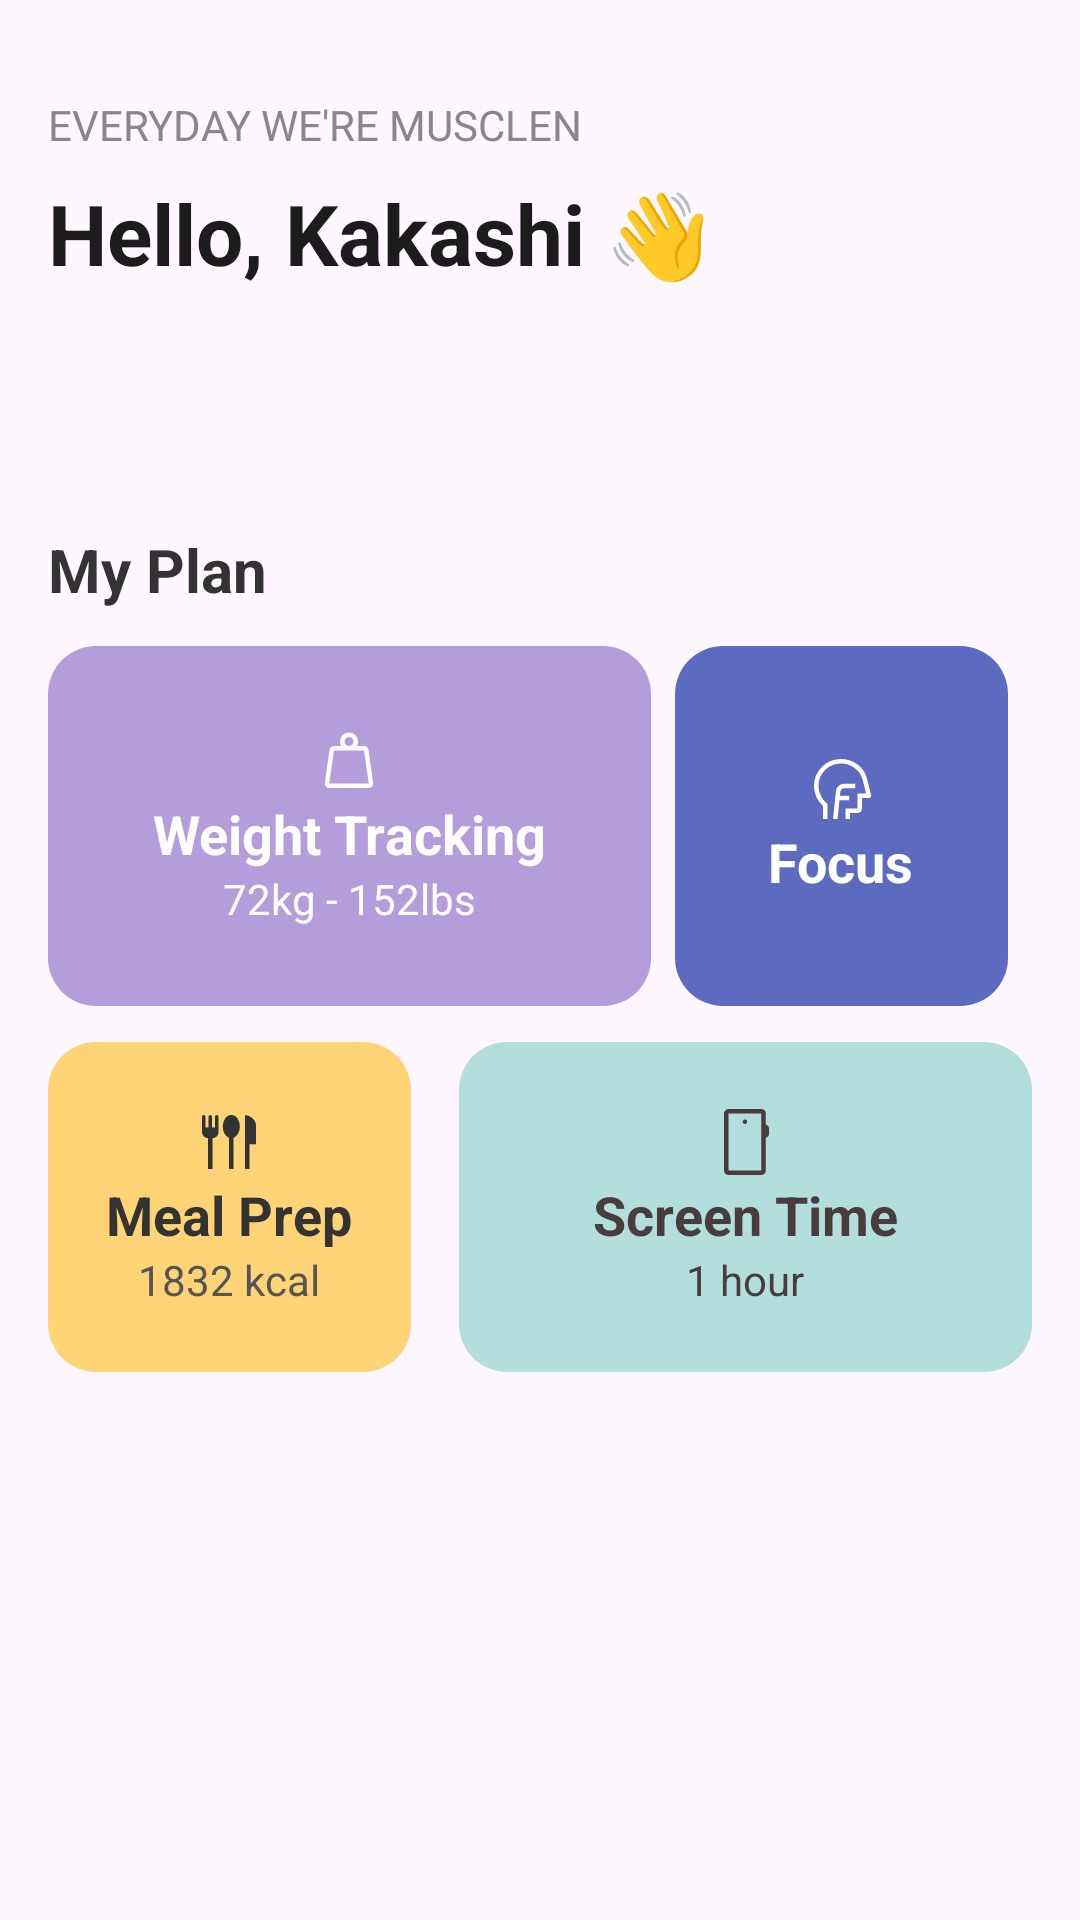

Point at icon controls on the screen. Image size 1080px×1920px, points as [x,y].
phone: [746,1142]
